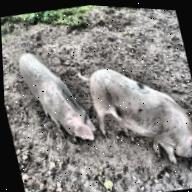boar: (75, 50, 192, 180), (16, 42, 100, 153)
